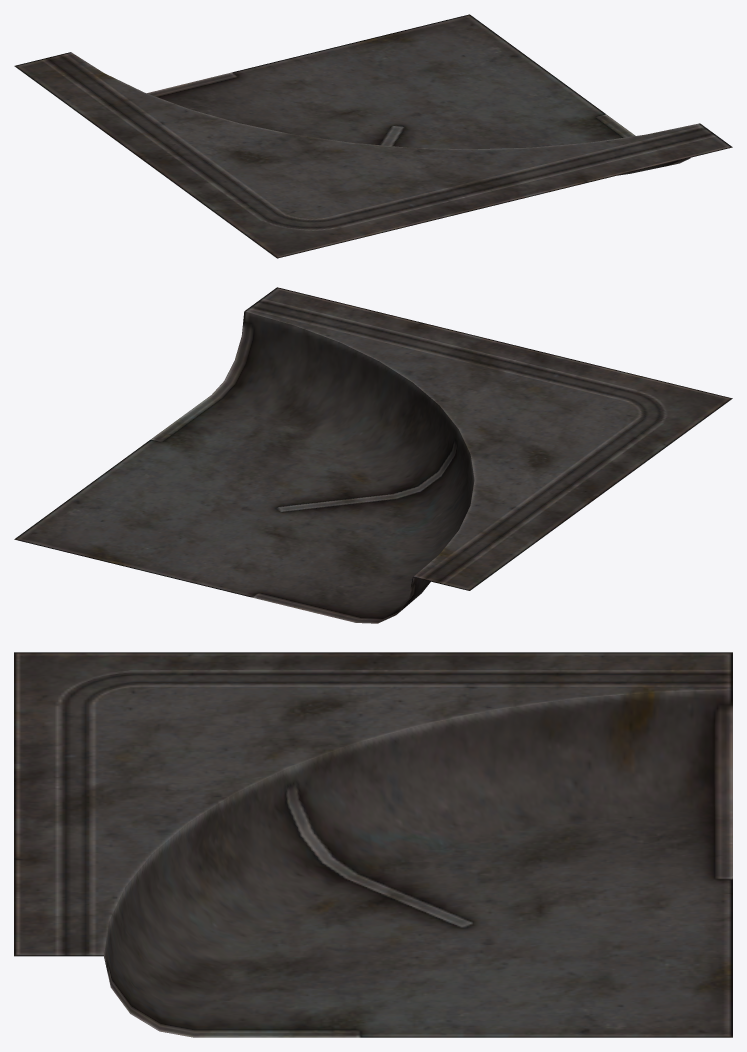
The model's file is pplant_ground_edge_concave_sunk_grey.dae.
3 views of the same model, one above another, from view 1: azimuth 30°, elevation 25°; view 2: azimuth 150°, elevation 25°; view 3: azimuth 270°, elevation 25° (orthographic). The views are drawn at different scales.
Parts seen in each view (by area): view 1: edge_concave_sunk_grey; view 2: edge_concave_sunk_grey; view 3: edge_concave_sunk_grey.
Part boxes in pixels (x1=…): edge_concave_sunk_grey: x1=14, y1=14, x2=732, y2=258; edge_concave_sunk_grey: x1=14, y1=287, x2=732, y2=623; edge_concave_sunk_grey: x1=14, y1=652, x2=732, y2=1037.
Bounding box in the file's own units: 2 × 0.25 × 2.
